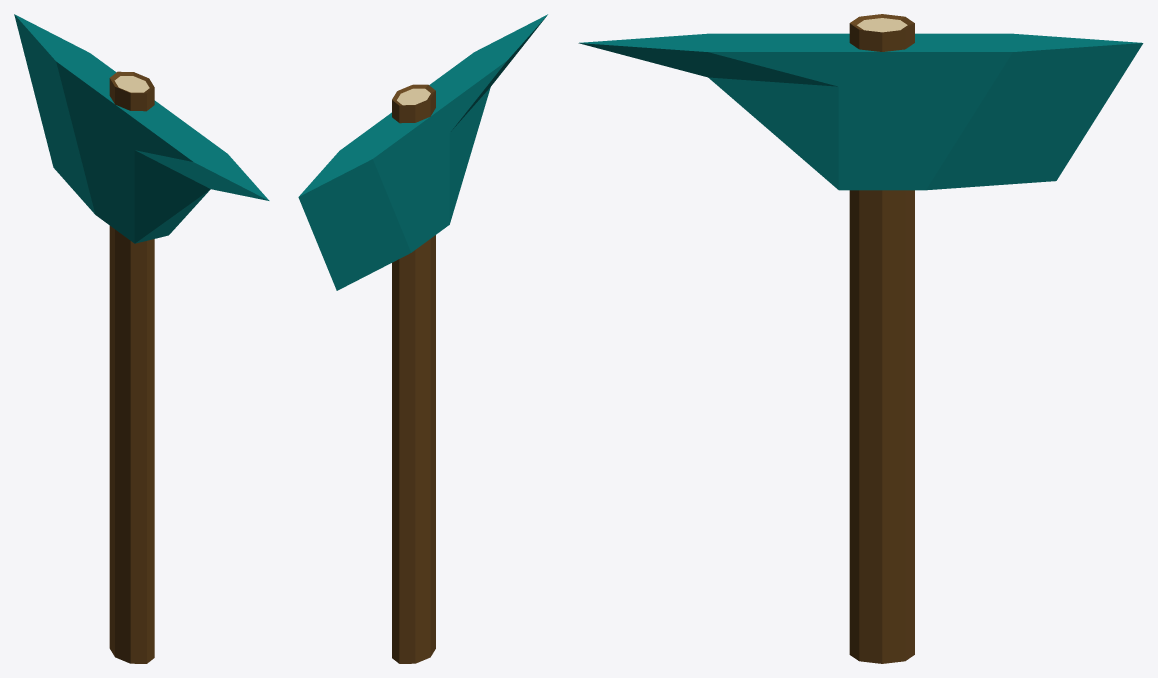
The model's file is PickAxe.fbx.
3 views of the same model, side by side, from view 1: azimuth 30°, elevation 25°; view 2: azimuth 150°, elevation 25°; view 3: azimuth 270°, elevation 25° (orthographic). The views are drawn at different scales.
Parts seen in each view (by area): view 1: PickAxe, Log; view 2: PickAxe, Log; view 3: PickAxe, Log.
Part boxes in pixels (x1,y1,x2,y2): PickAxe: (14, 14, 269, 243); Log: (109, 71, 154, 663); PickAxe: (298, 14, 547, 290); Log: (392, 84, 435, 663); PickAxe: (578, 33, 1143, 190); Log: (849, 14, 914, 663).
Size of the model in its own units: 100 by 1600 by 1300.
